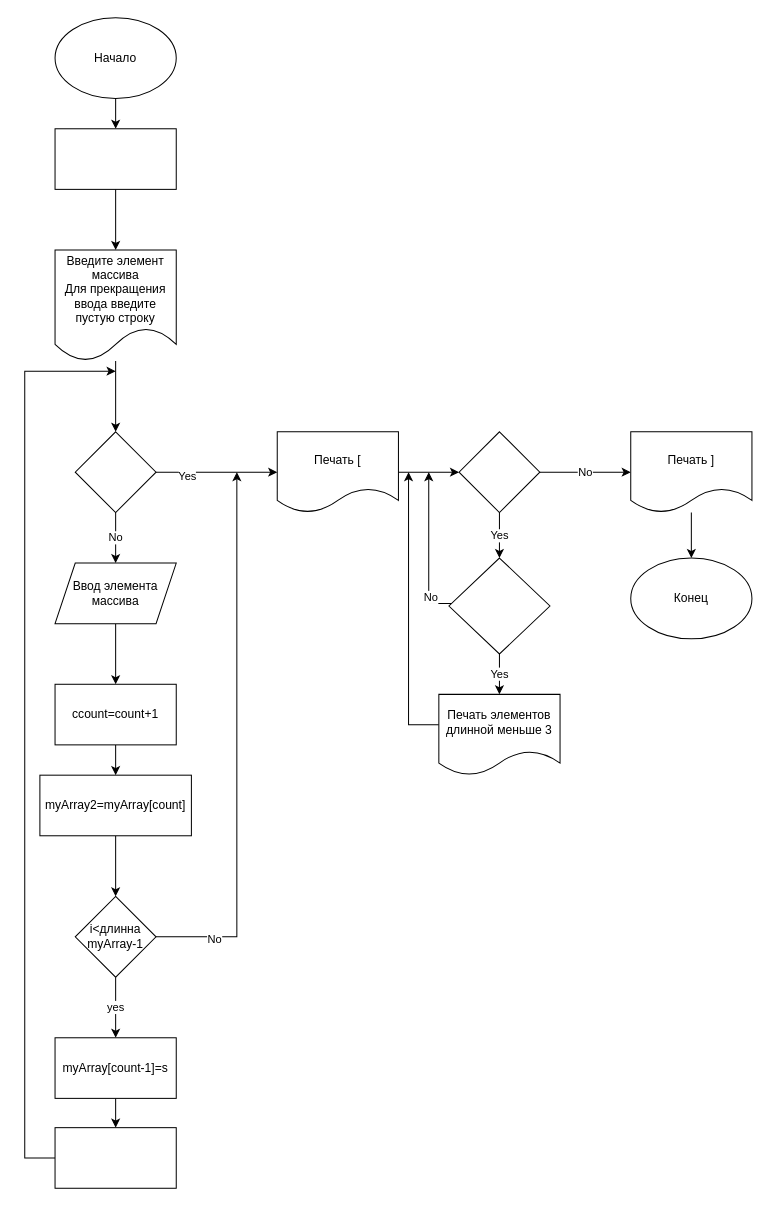
This 770x1206 diagram has some shape labels left out. Each missing label, with the box of its shape:
i<длина myArray[]: (458, 431, 540, 513)
lдлинна myArray[i}<3: (448, 557, 550, 654)
myArray1, myArray2, s, count, i: (54, 128, 176, 189)
myArray=myArray2[]: (54, 1127, 176, 1188)
s=пустая строка?: (74, 431, 156, 513)
